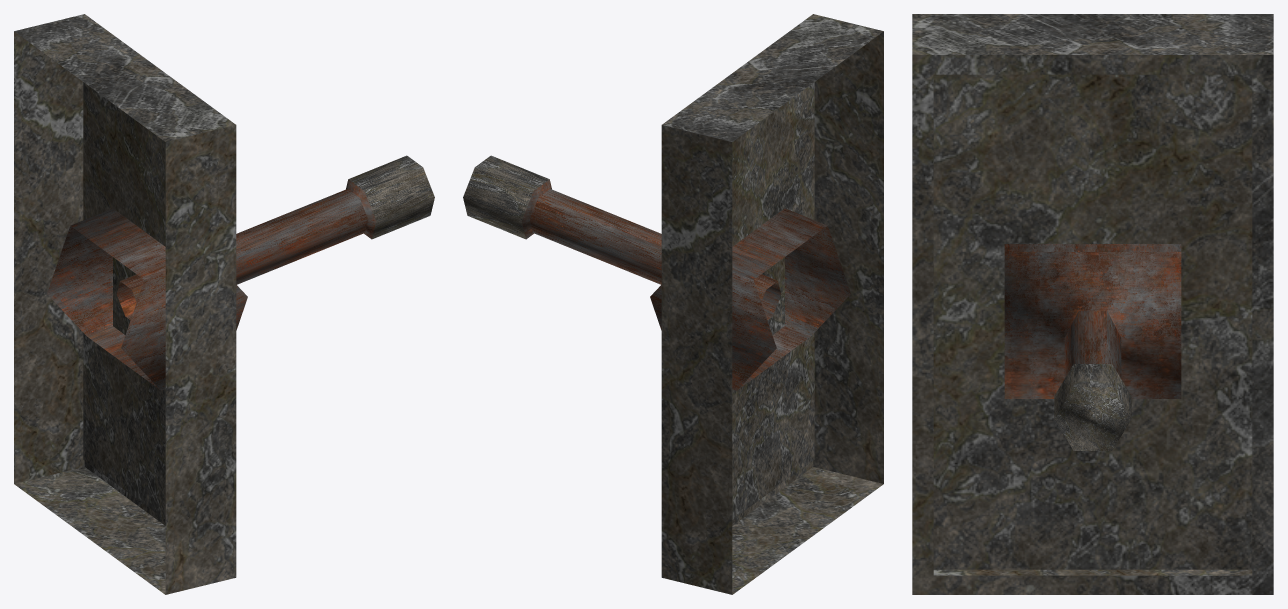
The model's file is lever_anim9.obj.
3 renders of one model, left to right at view 1: azimuth 30°, elevation 25°; view 2: azimuth 150°, elevation 25°; view 3: azimuth 270°, elevation 25°, orthographic. The views are drawn at different scales.
Parts seen in each view (by area): view 1: Cube, Cylinder; view 2: Cube, Cylinder; view 3: Cube, Cylinder.
Boxes of the visible parts, left/top/right/bottom form: Cube: left=14, top=14, right=236, bottom=594; Cylinder: left=47, top=155, right=434, bottom=390; Cube: left=661, top=14, right=883, bottom=594; Cylinder: left=463, top=155, right=850, bottom=390; Cube: left=912, top=14, right=1273, bottom=594; Cylinder: left=1004, top=244, right=1181, bottom=450.
Size of the model in its own units: 1.56 by 2 by 1.21.
2 materials, 2 textured.
